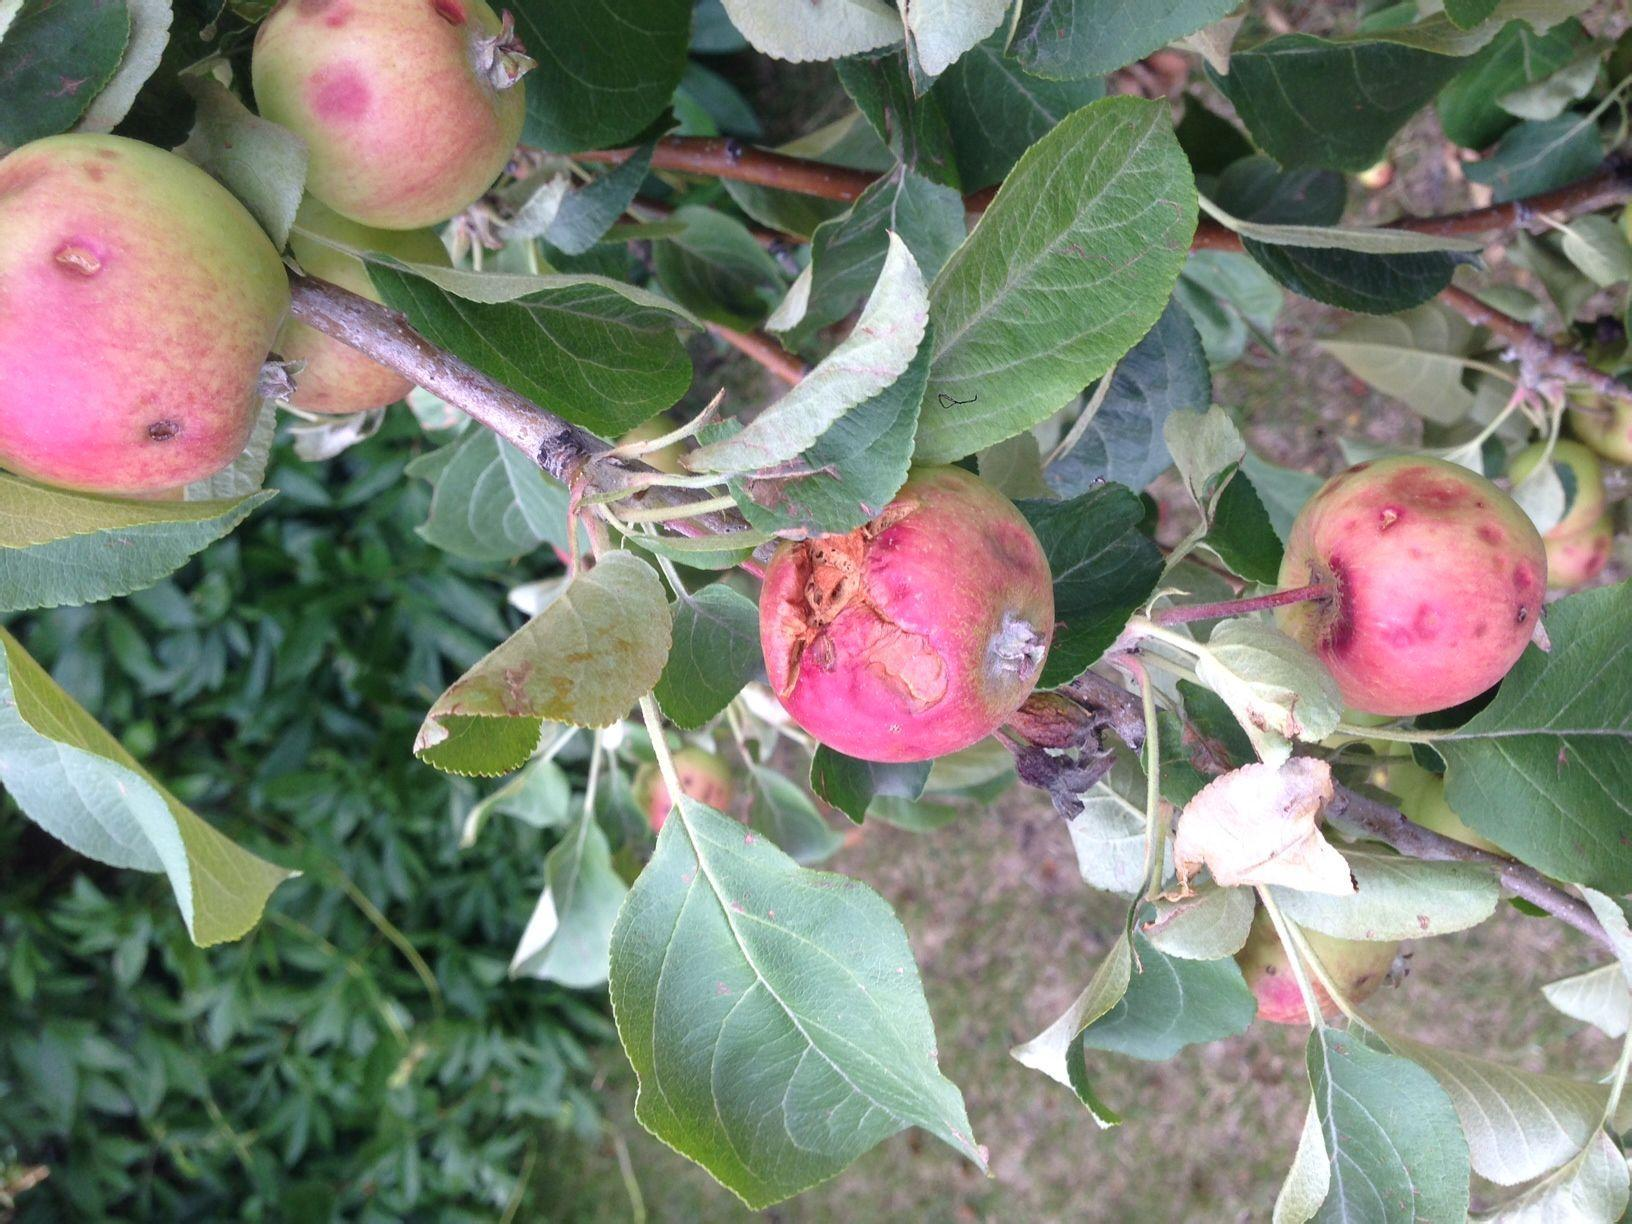apple: (1, 132, 296, 490), (756, 469, 1054, 769), (1276, 454, 1551, 723), (253, 3, 535, 237)
